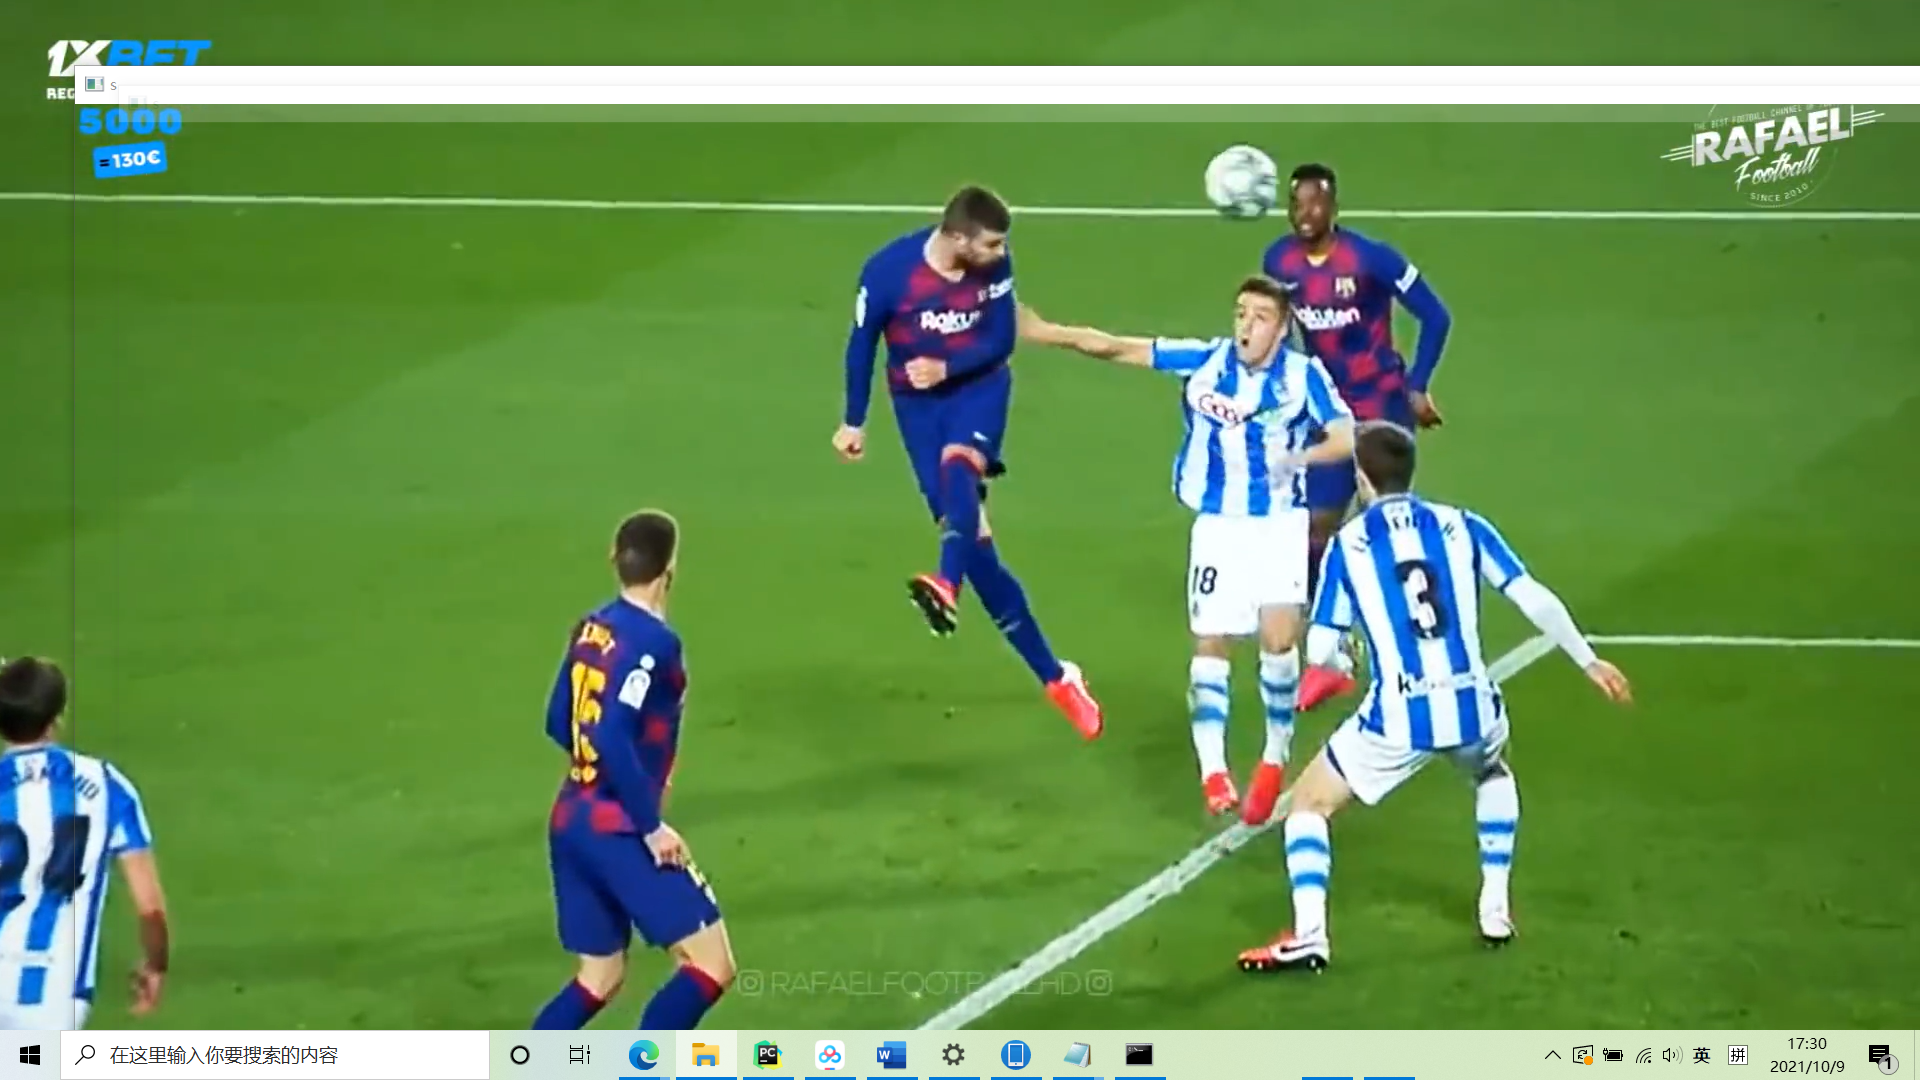ft: (1203, 141, 1280, 225)
